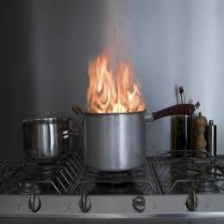fire: (86, 62, 138, 109)
